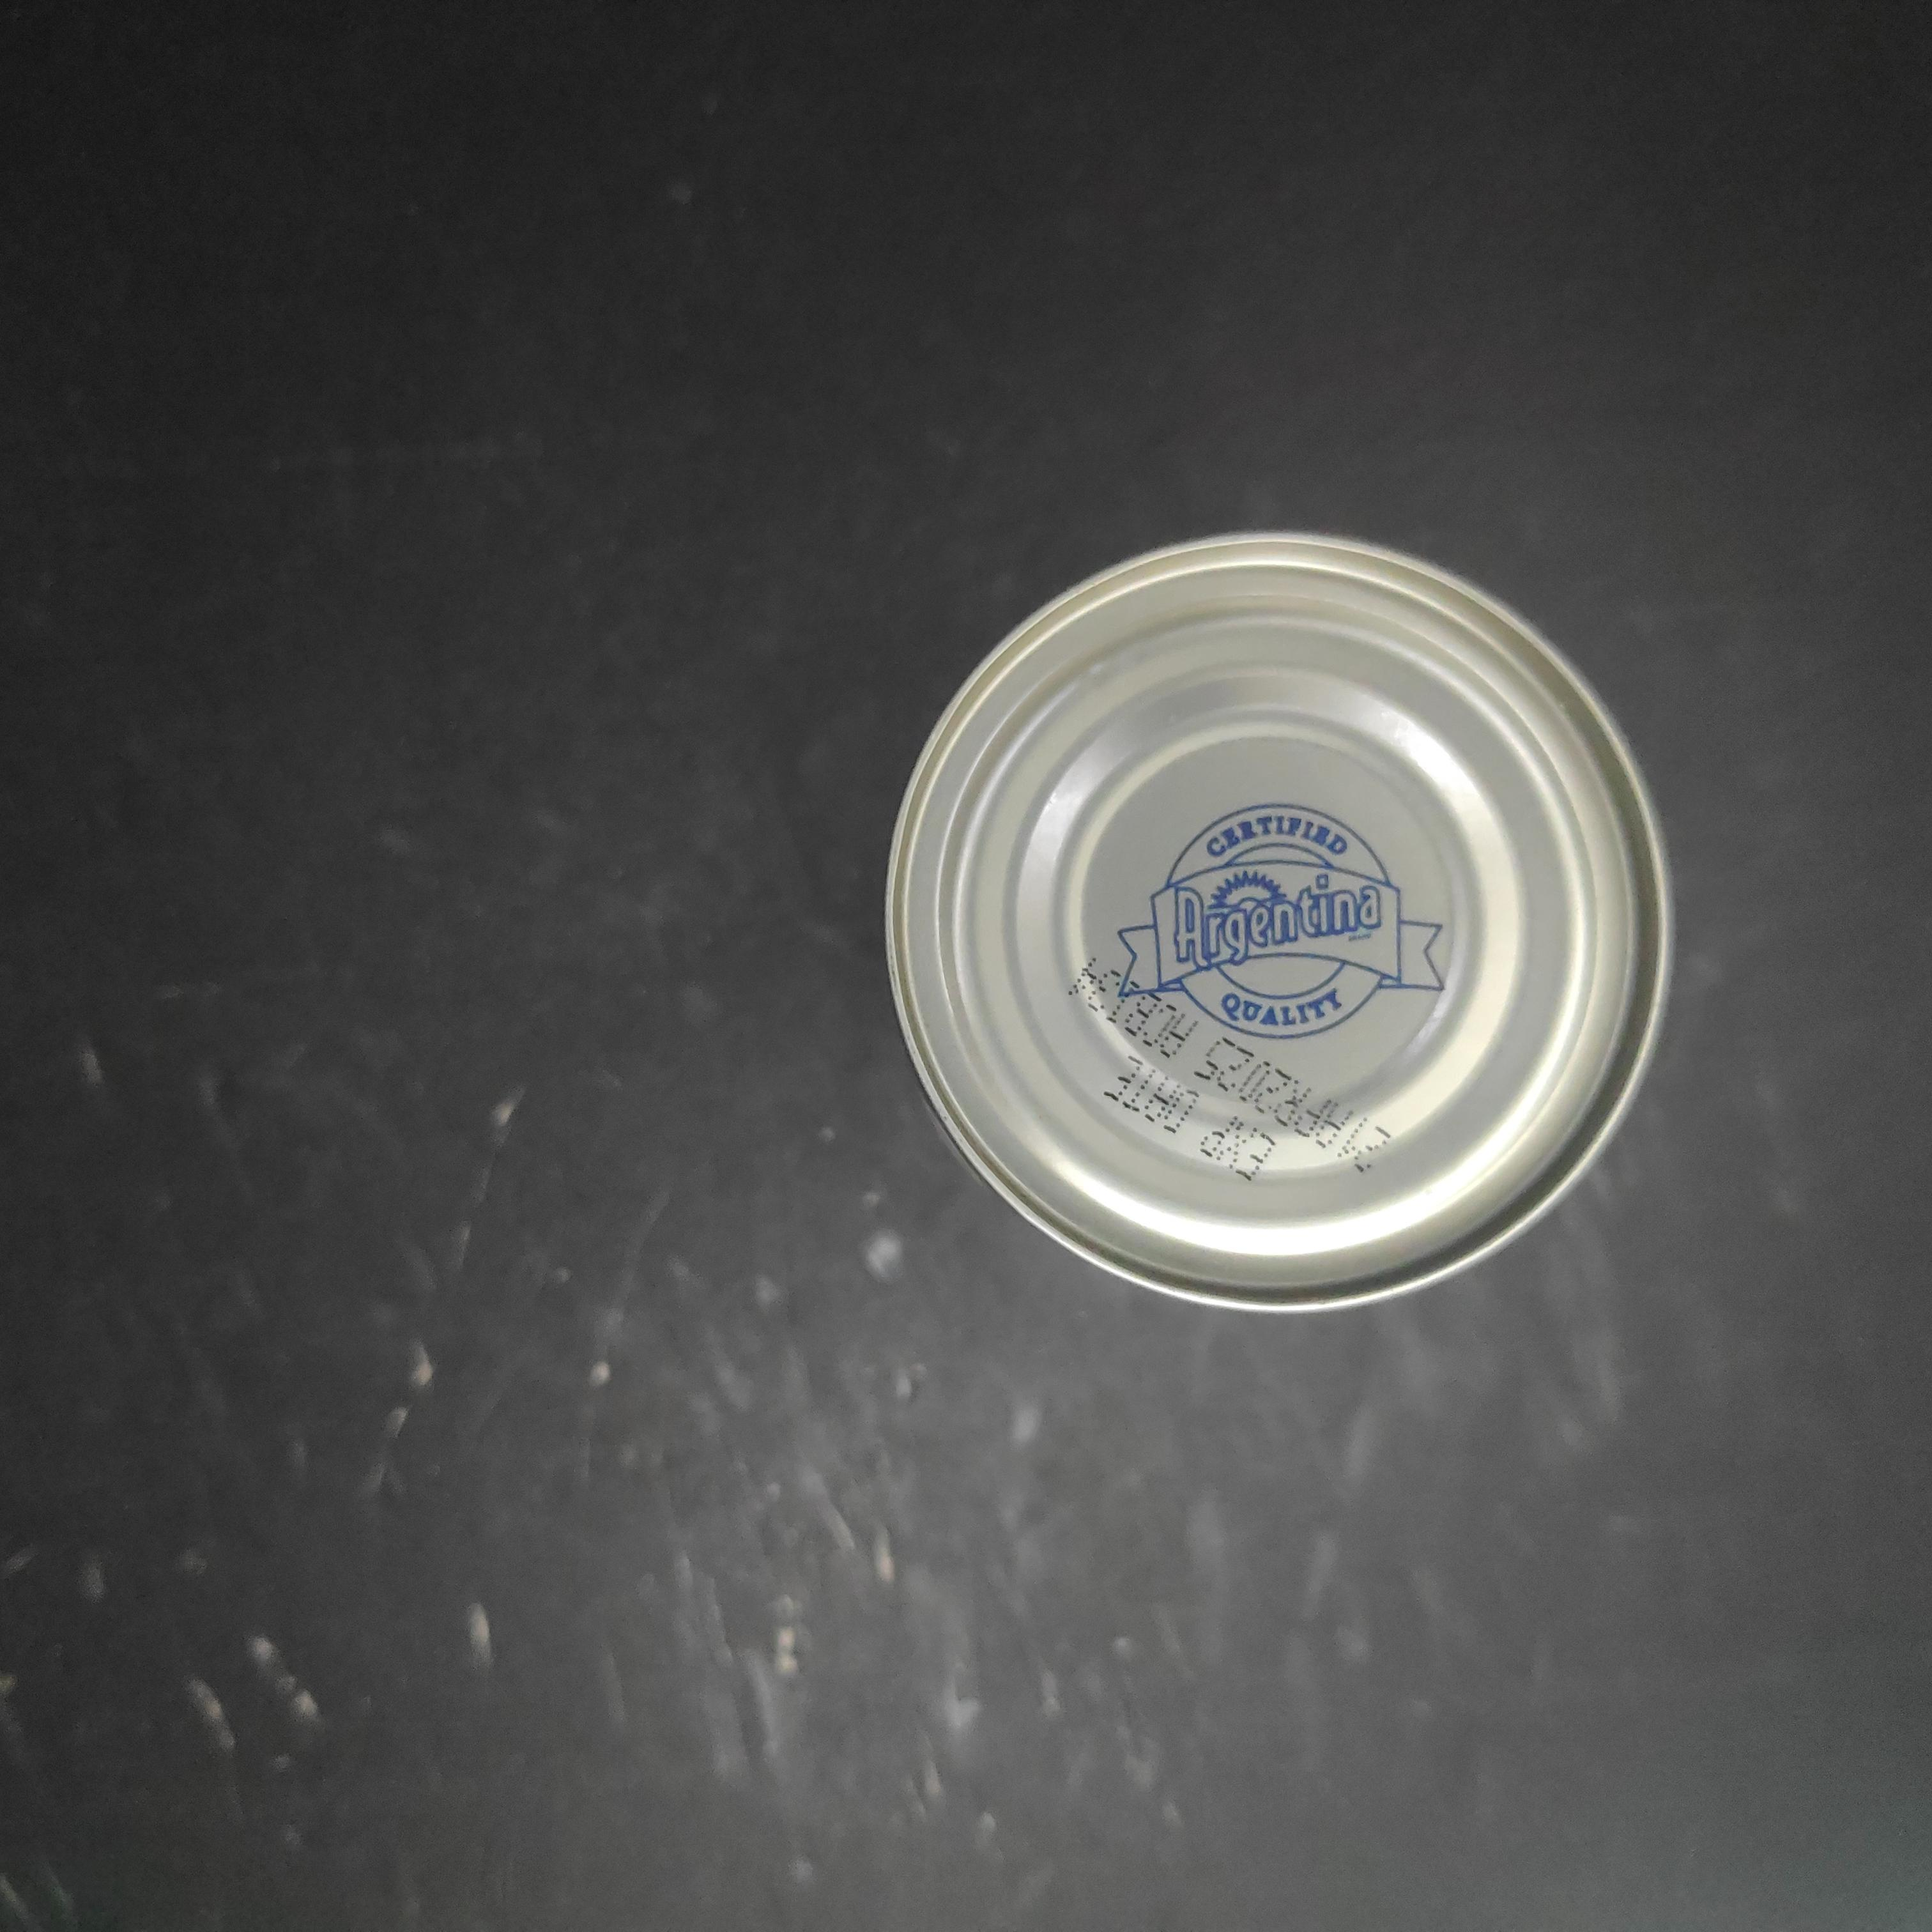No defect: (881, 529, 1675, 1315)
